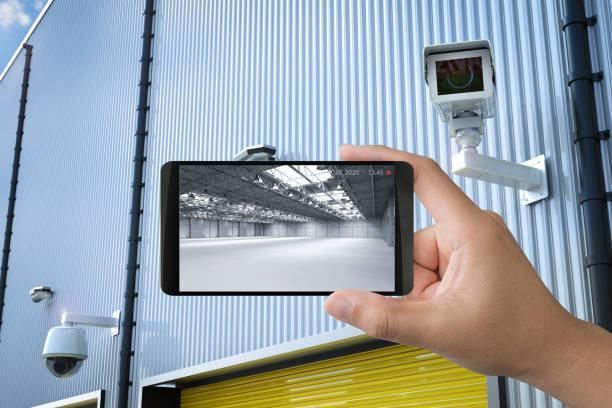camera: (377, 24, 547, 159), (15, 296, 127, 389)
